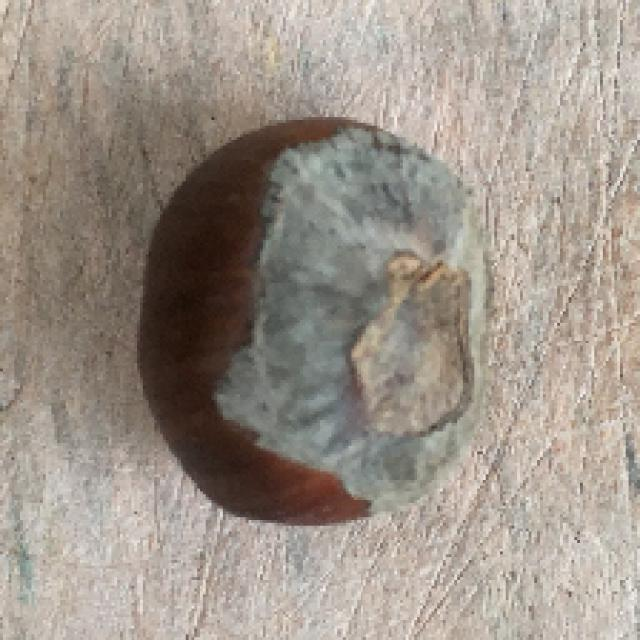damagedHazelnut: (124, 113, 505, 538)
